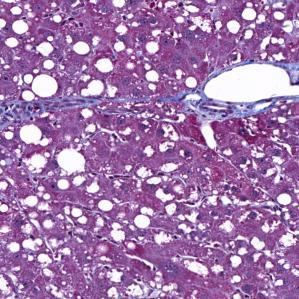fibrosis: (166, 86, 254, 127)
